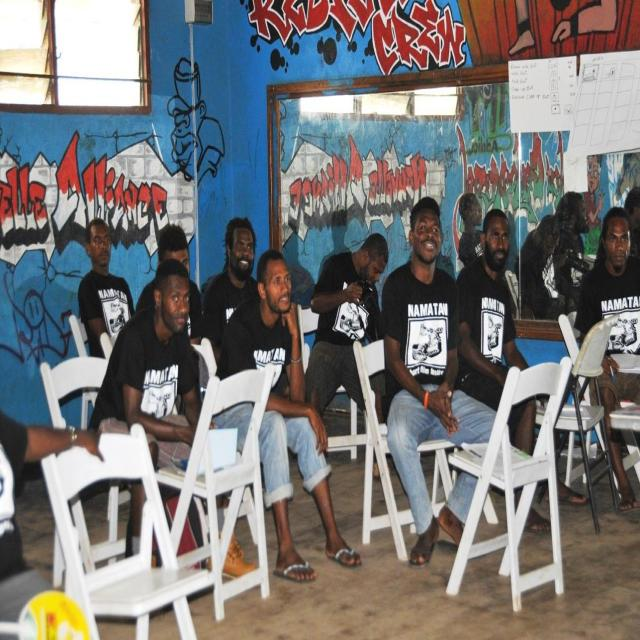body: (200, 243, 364, 588), (379, 196, 498, 568), (86, 258, 203, 580), (454, 207, 553, 533), (0, 406, 105, 640), (571, 202, 639, 517), (304, 232, 389, 482), (514, 150, 640, 274), (160, 47, 228, 197), (133, 222, 204, 345), (77, 216, 136, 360), (201, 216, 262, 350), (497, 0, 630, 58), (517, 214, 575, 321), (457, 191, 484, 267)
